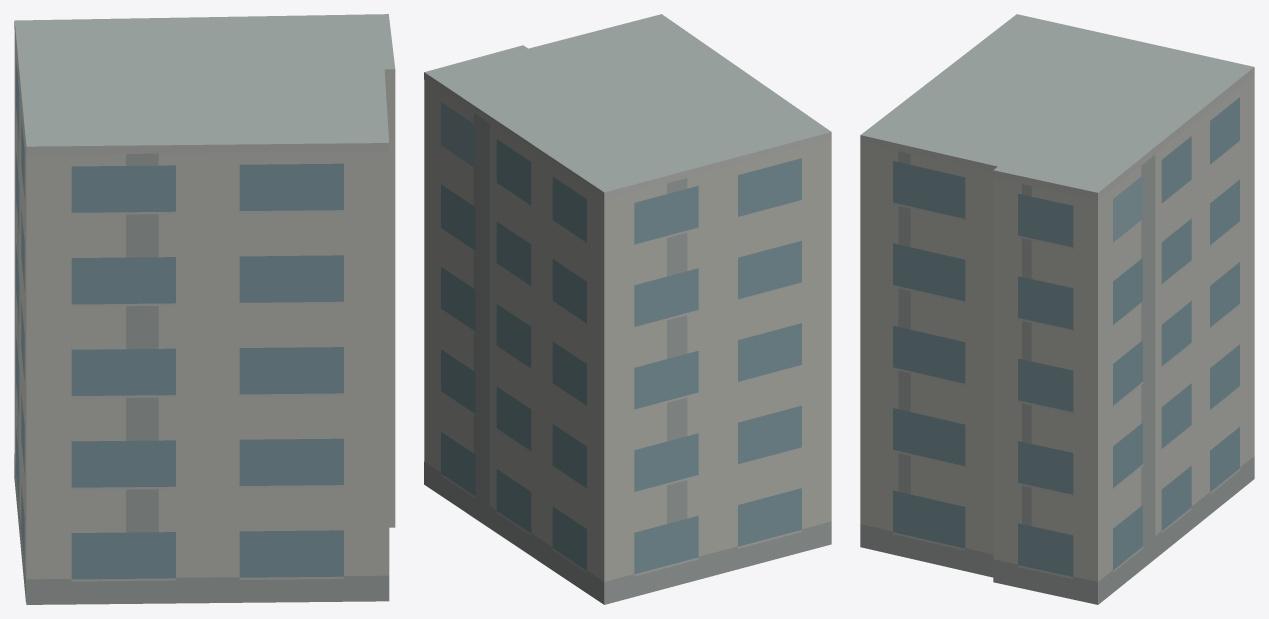
The model's file is survey-upis-32906519.glb.
The picture shows the model from 3 angles, left to right: view 1: azimuth 30°, elevation 25°; view 2: azimuth 150°, elevation 25°; view 3: azimuth 270°, elevation 25°; orthographic projection. The views are drawn at different scales.
Visible parts, largest first — view 1: survey-upis-32906519.tmp; view 2: survey-upis-32906519.tmp; view 3: survey-upis-32906519.tmp.
Boxes of the visible parts, <box> form: survey-upis-32906519.tmp: <box>14,14,395,604</box>; survey-upis-32906519.tmp: <box>424,14,831,604</box>; survey-upis-32906519.tmp: <box>860,14,1254,604</box>.
Size of the model in its own units: 12.34 by 13.25 by 11.5.
